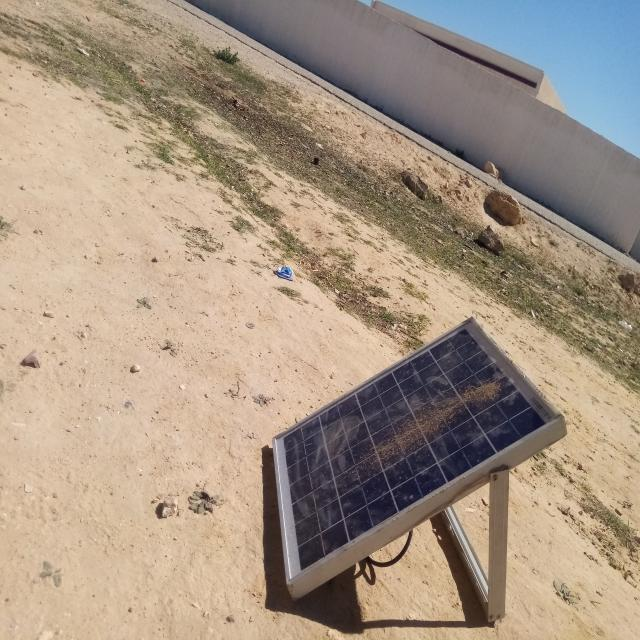faulty: (273, 317, 562, 585)
